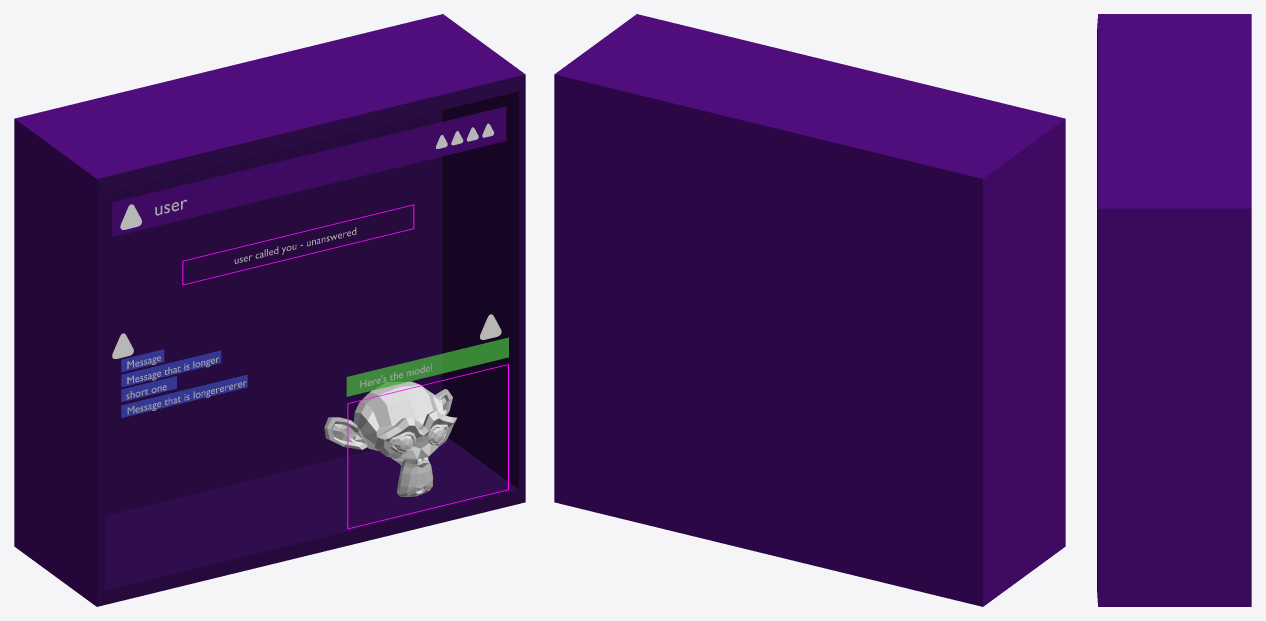
Rendered from mockVrChat.glb.
The picture shows the model from 3 angles, left to right: view 1: azimuth 30°, elevation 25°; view 2: azimuth 150°, elevation 25°; view 3: azimuth 270°, elevation 25°; orthographic projection. The views are drawn at different scales.
Parts seen in each view (by area): view 1: Cube, Plane.008, Suzanne, Plane, Plane.004, Plane.002, Plane.014, Plane.005, Plane.003; view 2: Cube; view 3: Cube.
Part boxes in pixels (bbox=[...]): Cube: bbox=[14, 14, 525, 606]; Plane.008: bbox=[112, 106, 506, 236]; Suzanne: bbox=[324, 381, 456, 496]; Plane: bbox=[346, 337, 508, 396]; Plane.004: bbox=[121, 374, 247, 417]; Plane.002: bbox=[121, 350, 221, 387]; Plane.014: bbox=[347, 364, 508, 529]; Plane.005: bbox=[182, 204, 414, 285]; Plane.003: bbox=[121, 376, 176, 401]; Cube: bbox=[554, 14, 1065, 606]; Cube: bbox=[1097, 14, 1251, 606].
Size of what is drawn, in the model's own units: 6 by 5.72 by 2.05.
